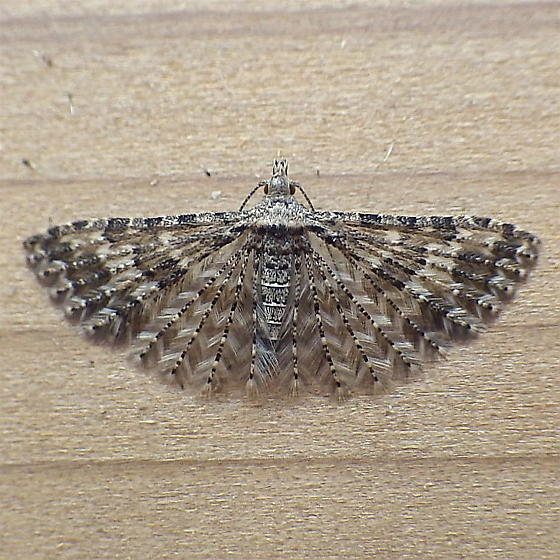Alucitidae: (18, 141, 540, 410)
moth: (20, 143, 542, 412)
